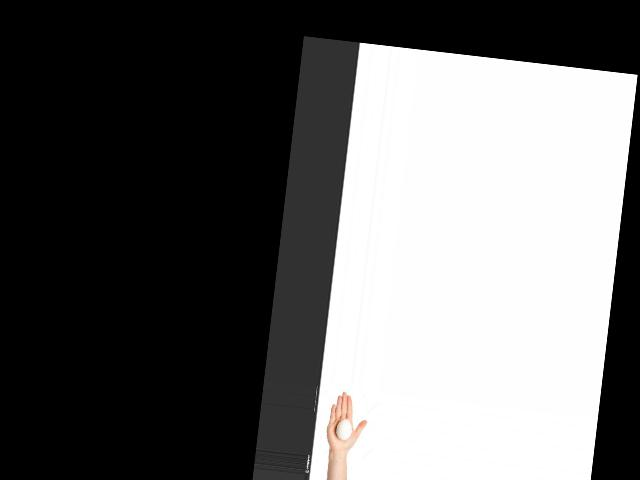egg: (335, 418, 352, 440)
